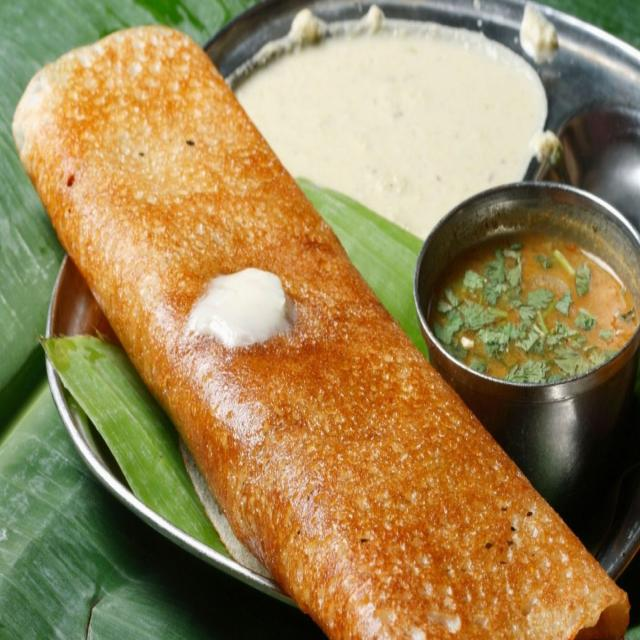dosa: (12, 20, 628, 639)
